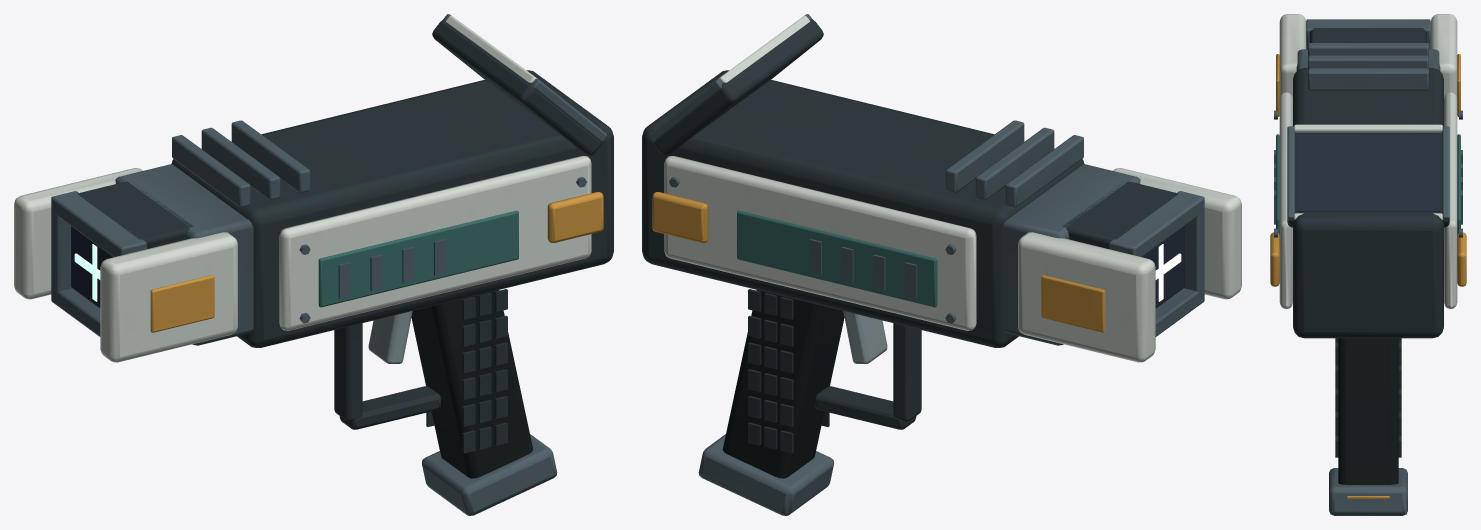
The model's file is builder-tool.glb.
3 renders of one model, left to right at view 1: azimuth 30°, elevation 25°; view 2: azimuth 150°, elevation 25°; view 3: azimuth 270°, elevation 25°, orthographic. The views are drawn at different scales.
Visible parts, largest first — view 1: builder-tool_HandheldFinish, builder-tool_Glass; view 2: builder-tool_HandheldFinish, builder-tool_Glass; view 3: builder-tool_HandheldFinish, builder-tool_Glass.
Part boxes in pixels (box(x1,y1,x2,y2)): builder-tool_HandheldFinish: box(14, 14, 613, 515); builder-tool_Glass: box(71, 226, 113, 308); builder-tool_HandheldFinish: box(642, 14, 1241, 515); builder-tool_Glass: box(1142, 226, 1184, 308); builder-tool_HandheldFinish: box(1270, 14, 1466, 515); builder-tool_Glass: box(1296, 135, 1440, 211).
Bounding box in the file's own units: 0.275 × 0.2277 × 0.104.
Materials: 3 (1 with a texture image).
